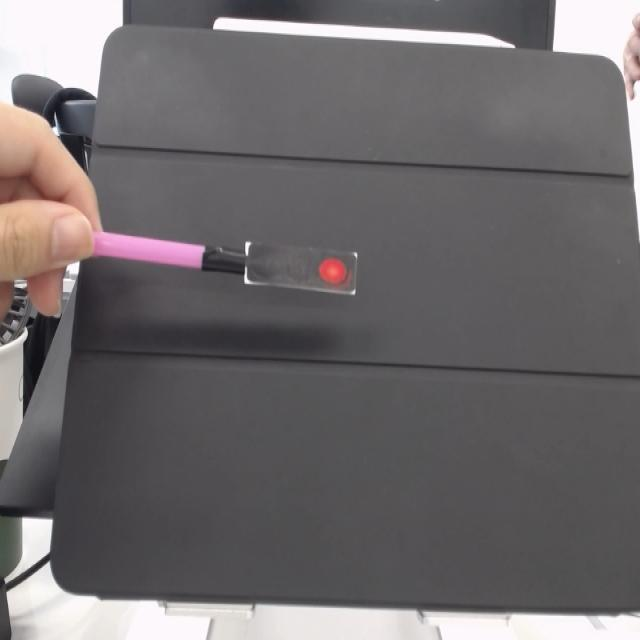traffic light: (243, 240, 361, 303)
